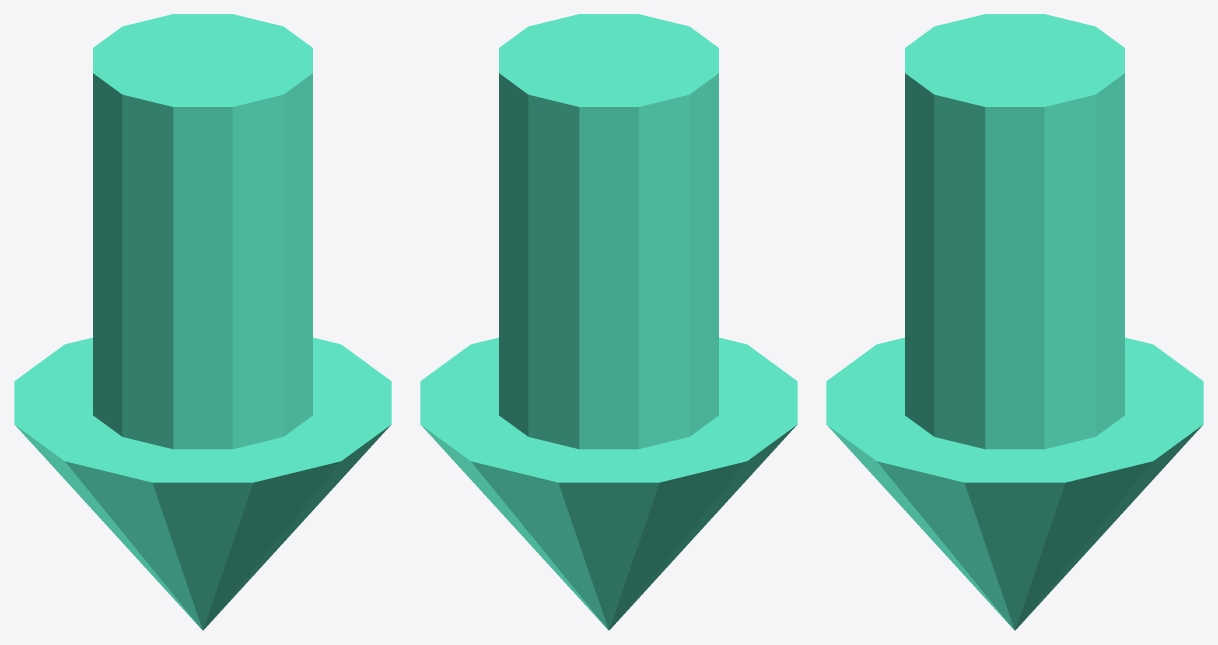
Rendered from point.obj.
3 renders of one model, left to right at view 1: azimuth 30°, elevation 25°; view 2: azimuth 150°, elevation 25°; view 3: azimuth 270°, elevation 25°, orthographic.
Visible parts, largest first — view 1: cone; view 2: cone; view 3: cone.
Part boxes in pixels (x1=…): cone: x1=14, y1=14, x2=391, y2=630; cone: x1=420, y1=14, x2=797, y2=630; cone: x1=826, y1=14, x2=1203, y2=630.
Bounding box in the file's own units: 0.375 × 0.625 × 0.375.
